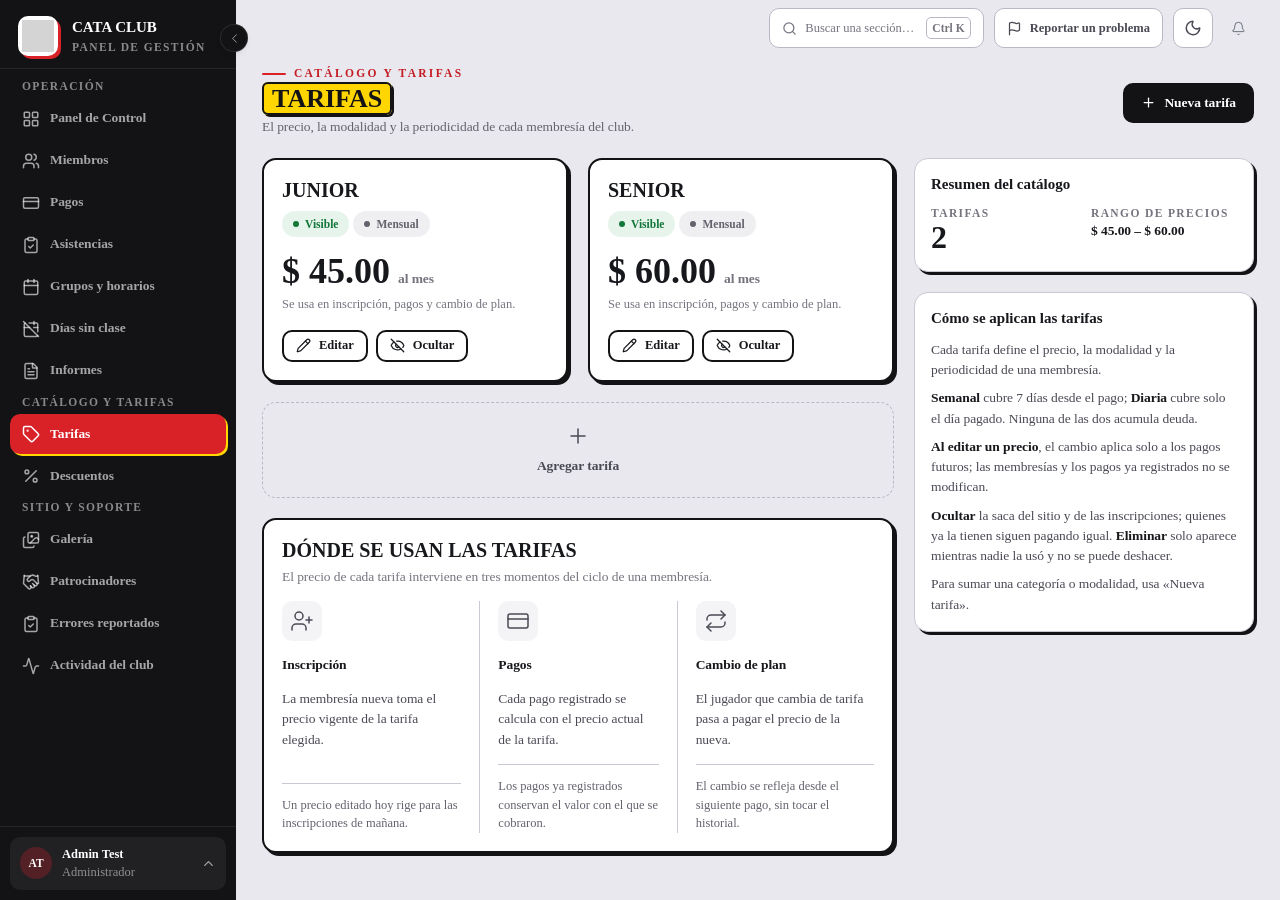
Test: TarifasPage — editar precio › edits a price and confirms it, sending the id and precio as a STRING
Click the button "Editar" below "Junior".
click(325, 346)  # box [282, 330, 368, 362]
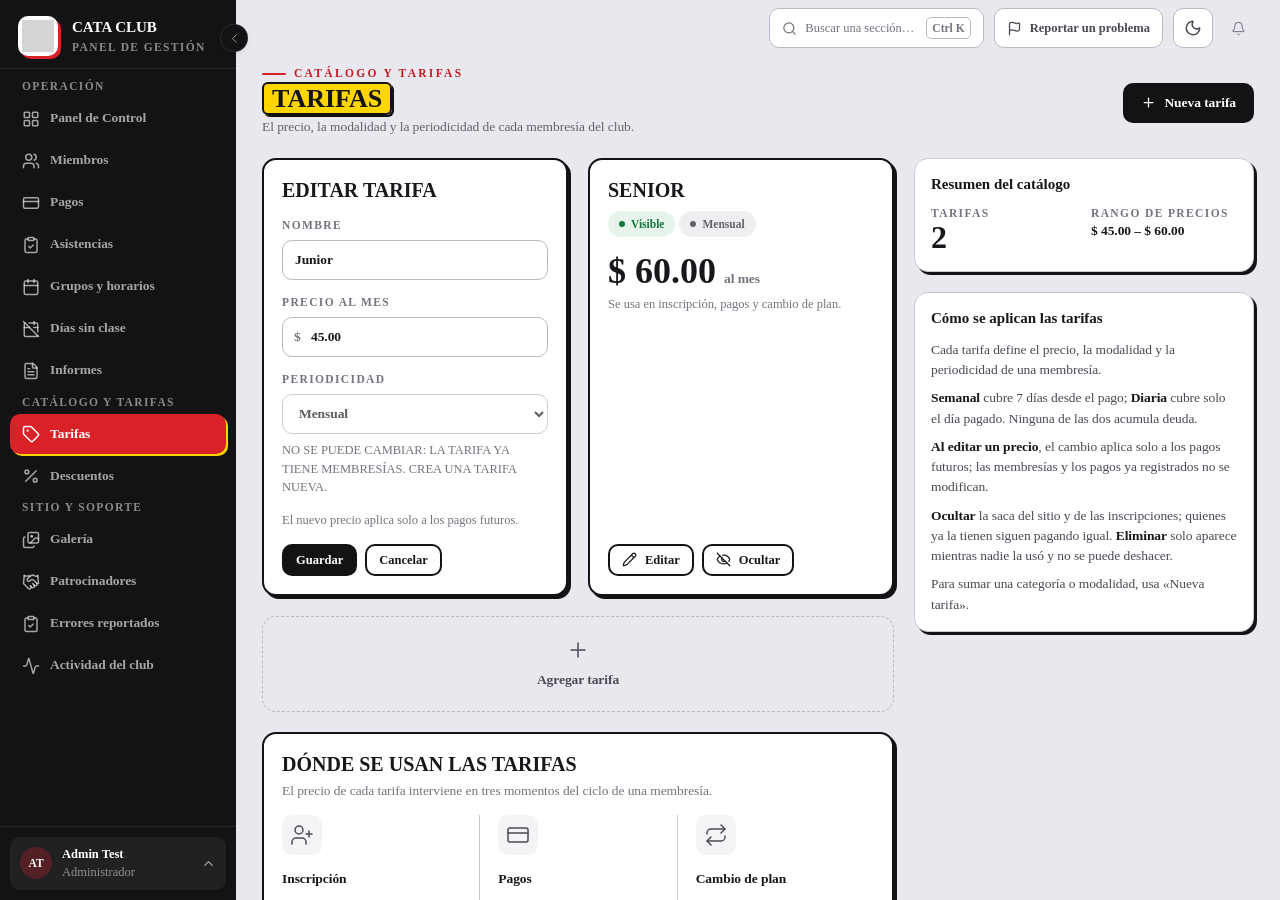
Replace the text in the field named "precio de junior" with "50.00" at (415, 337), box [282, 317, 548, 357]
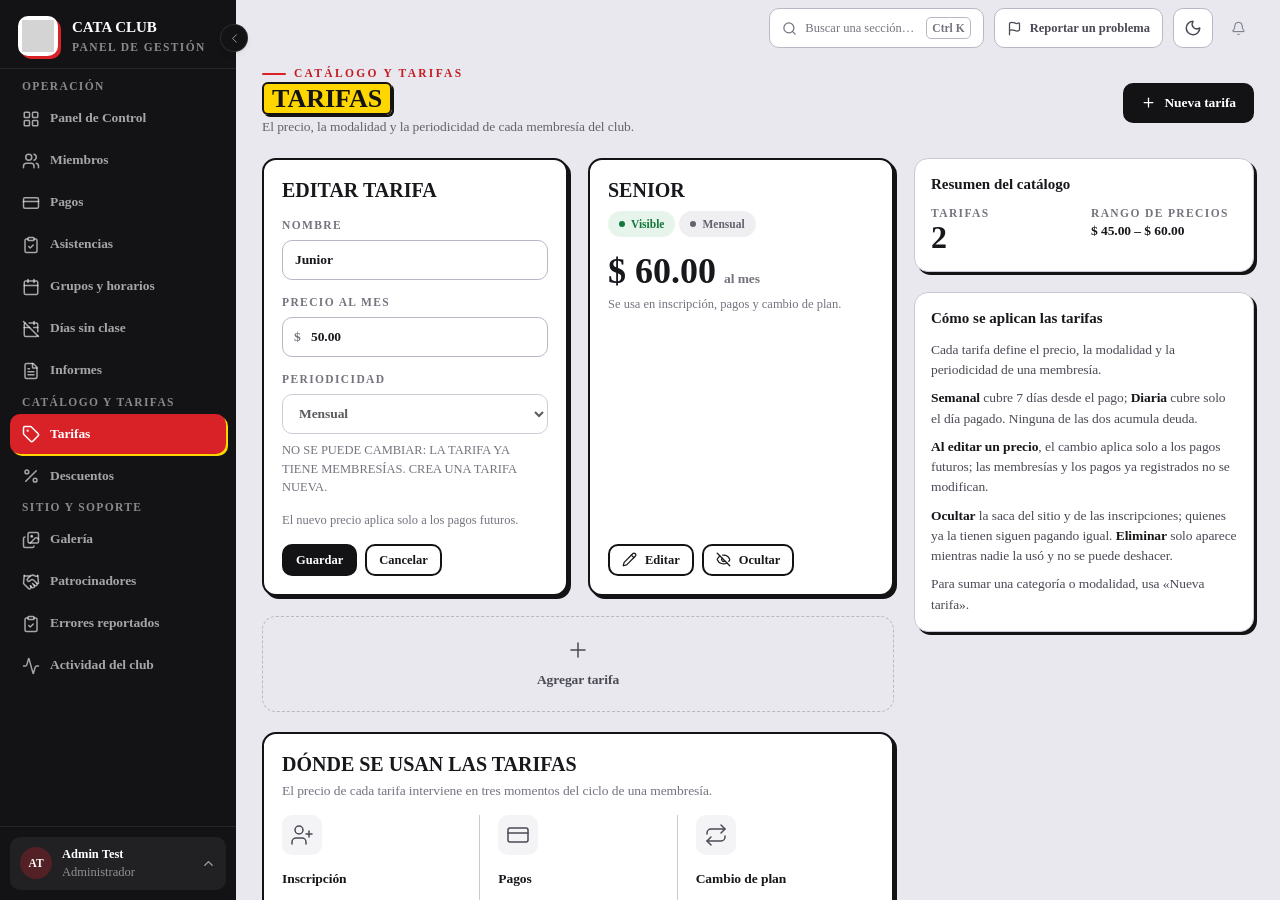
Click the button "Guardar".
click(320, 560)  # box [282, 544, 357, 576]
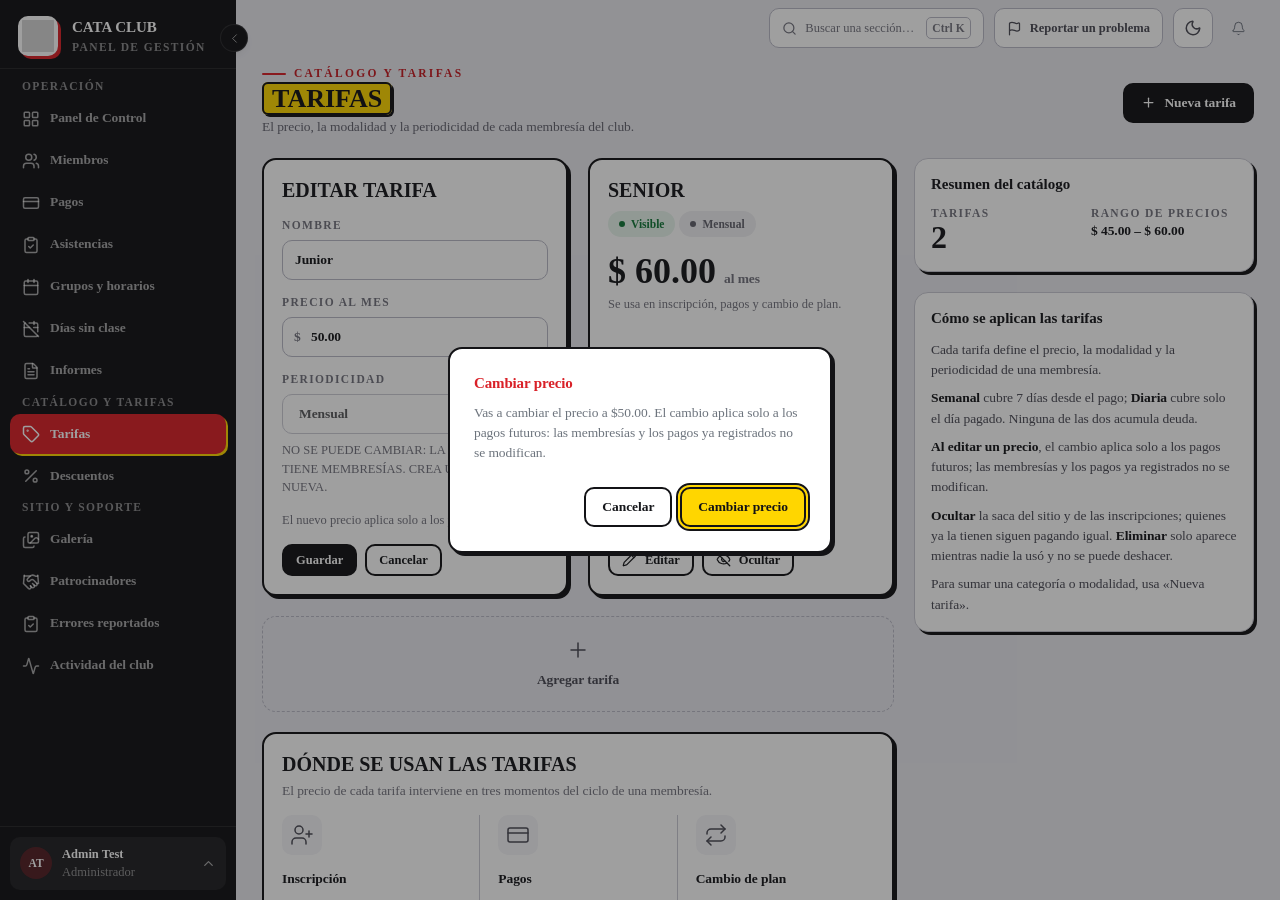
Click the button "Cambiar precio".
click(743, 507)  # box [680, 487, 806, 527]
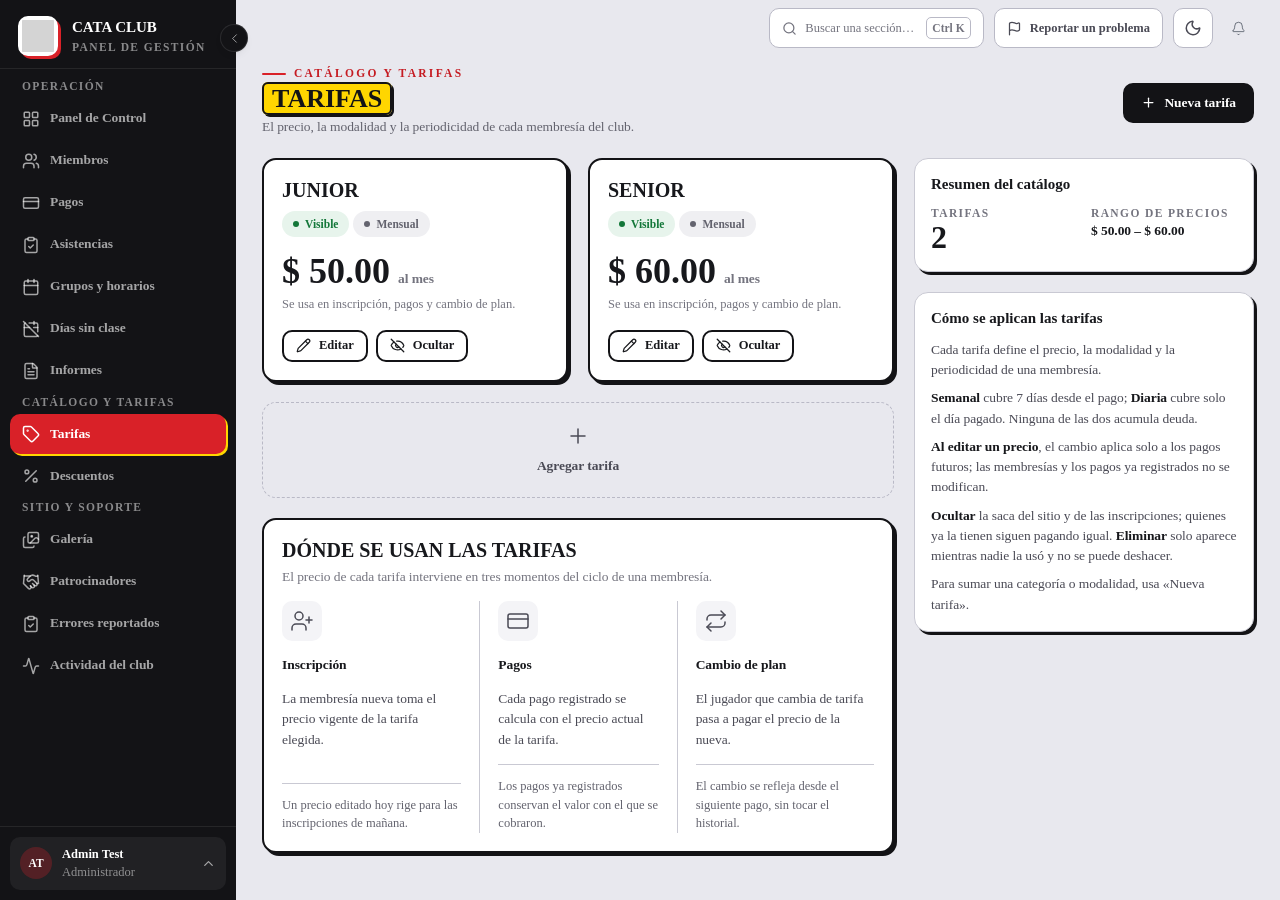
Expected: the text "$ 50.00" is shown, [282, 251, 390, 291]
